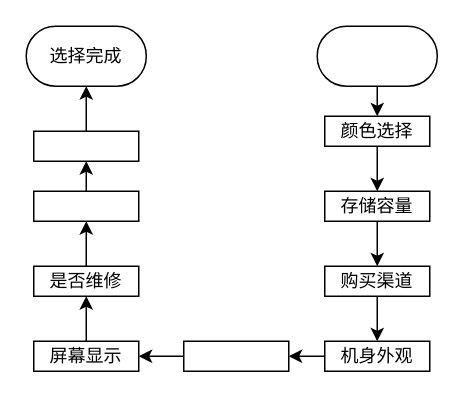
Image size: 464x398. Some labels were removed from this diagram. The box of each missing label's shape, as (x1, y1, x2, y2) in pixels:
功能性问题: (32, 130, 139, 161)
屏幕外观: (182, 340, 289, 371)
是否有ID锁: (32, 190, 139, 221)
机况选择: (316, 25, 437, 86)
